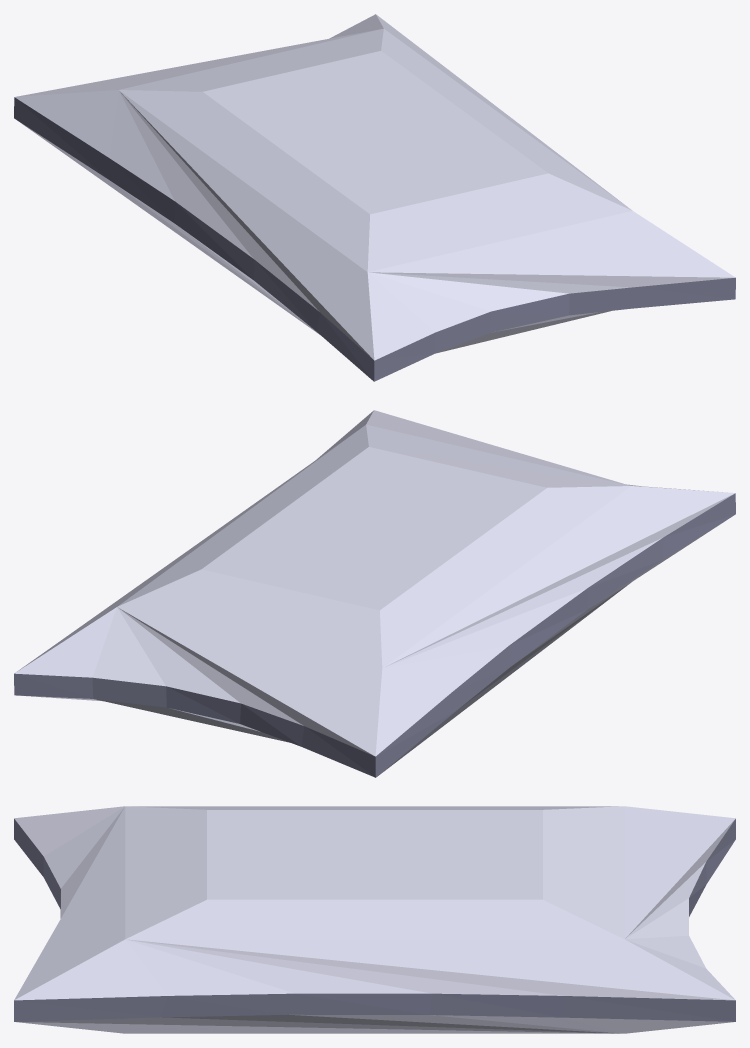
File: Bed_Pillow.fbx
3 views of the same model, one above another, from view 1: azimuth 30°, elevation 25°; view 2: azimuth 150°, elevation 25°; view 3: azimuth 270°, elevation 25° (orthographic).
Visible parts, largest first — view 1: Couch_Cushion; view 2: Couch_Cushion; view 3: Couch_Cushion.
Part boxes in pixels (<box>): Couch_Cushion: <box>14,14,735,381</box>; Couch_Cushion: <box>14,410,735,777</box>; Couch_Cushion: <box>14,806,735,1033</box>.
Bounding box in the file's own units: 46.75 × 16.45 × 80.59.
